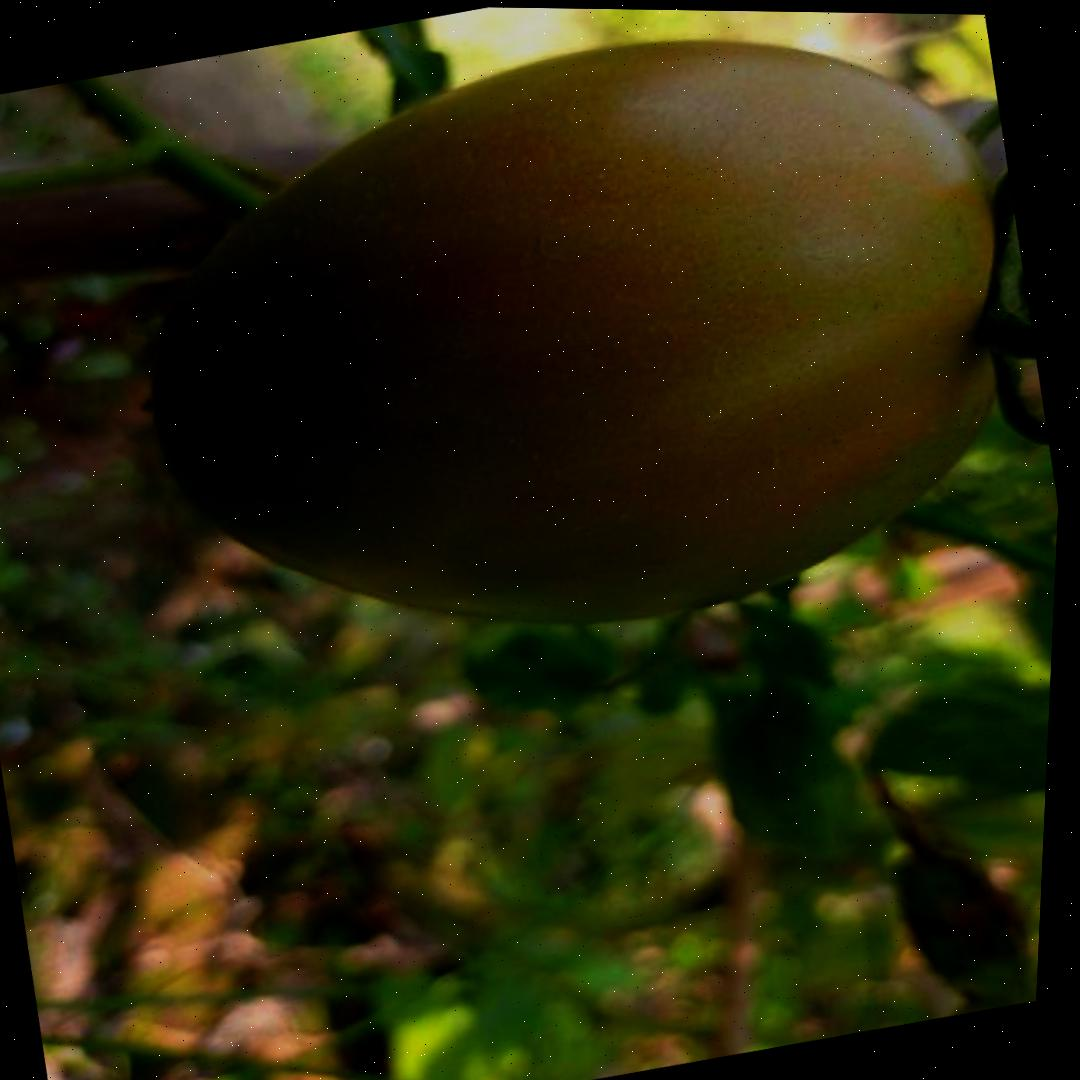setengah_matang: (85, 2, 1080, 716)
